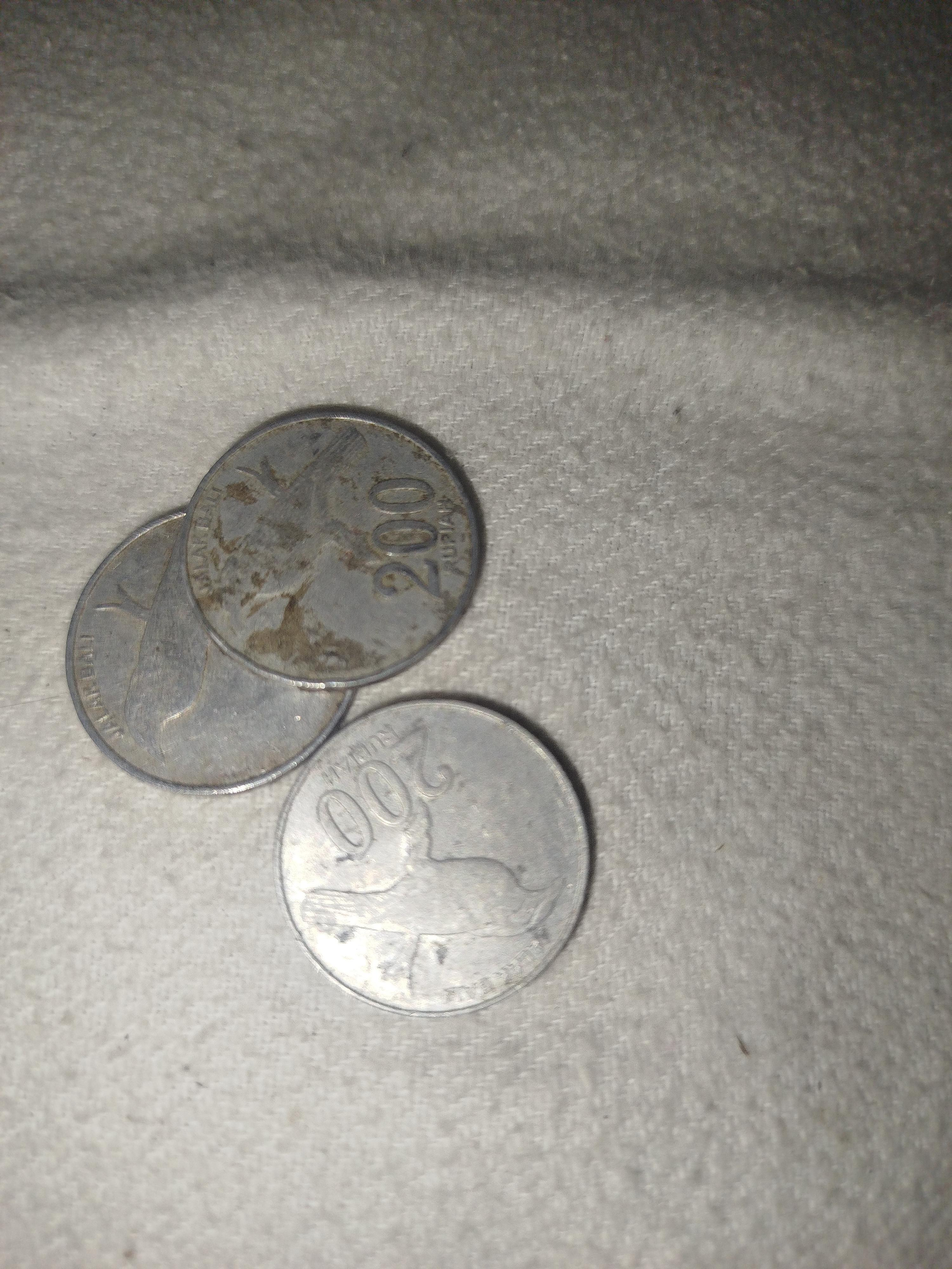coin_200_e2003: (182, 404, 487, 680)
